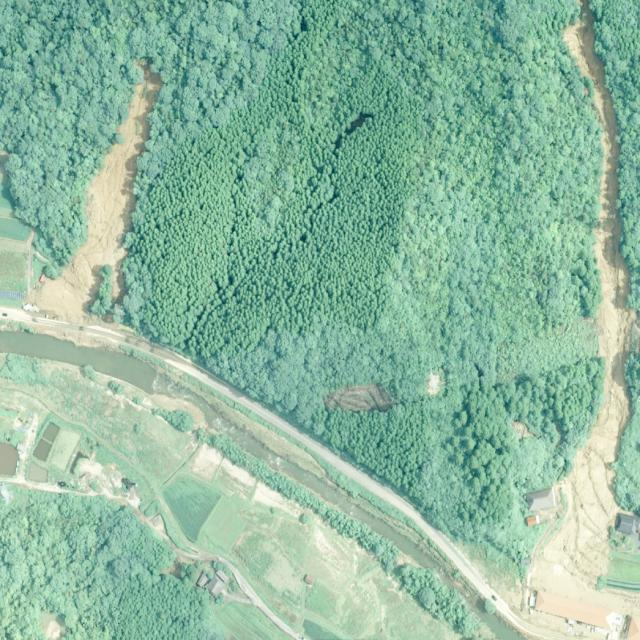landslide: (530, 2, 640, 618), (29, 65, 160, 324)
